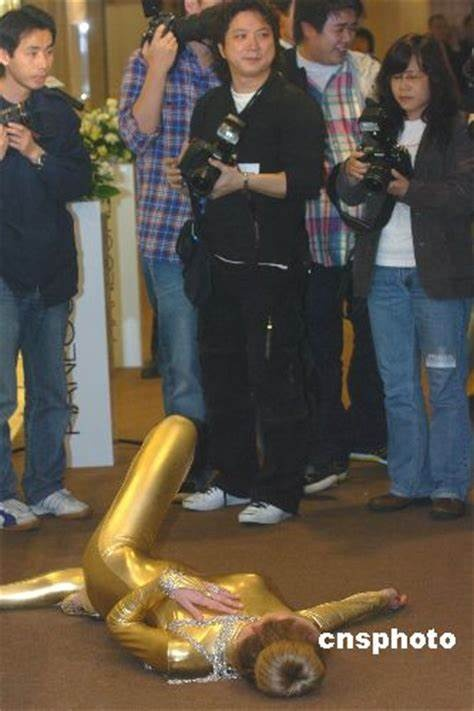falling: (13, 414, 412, 695)
